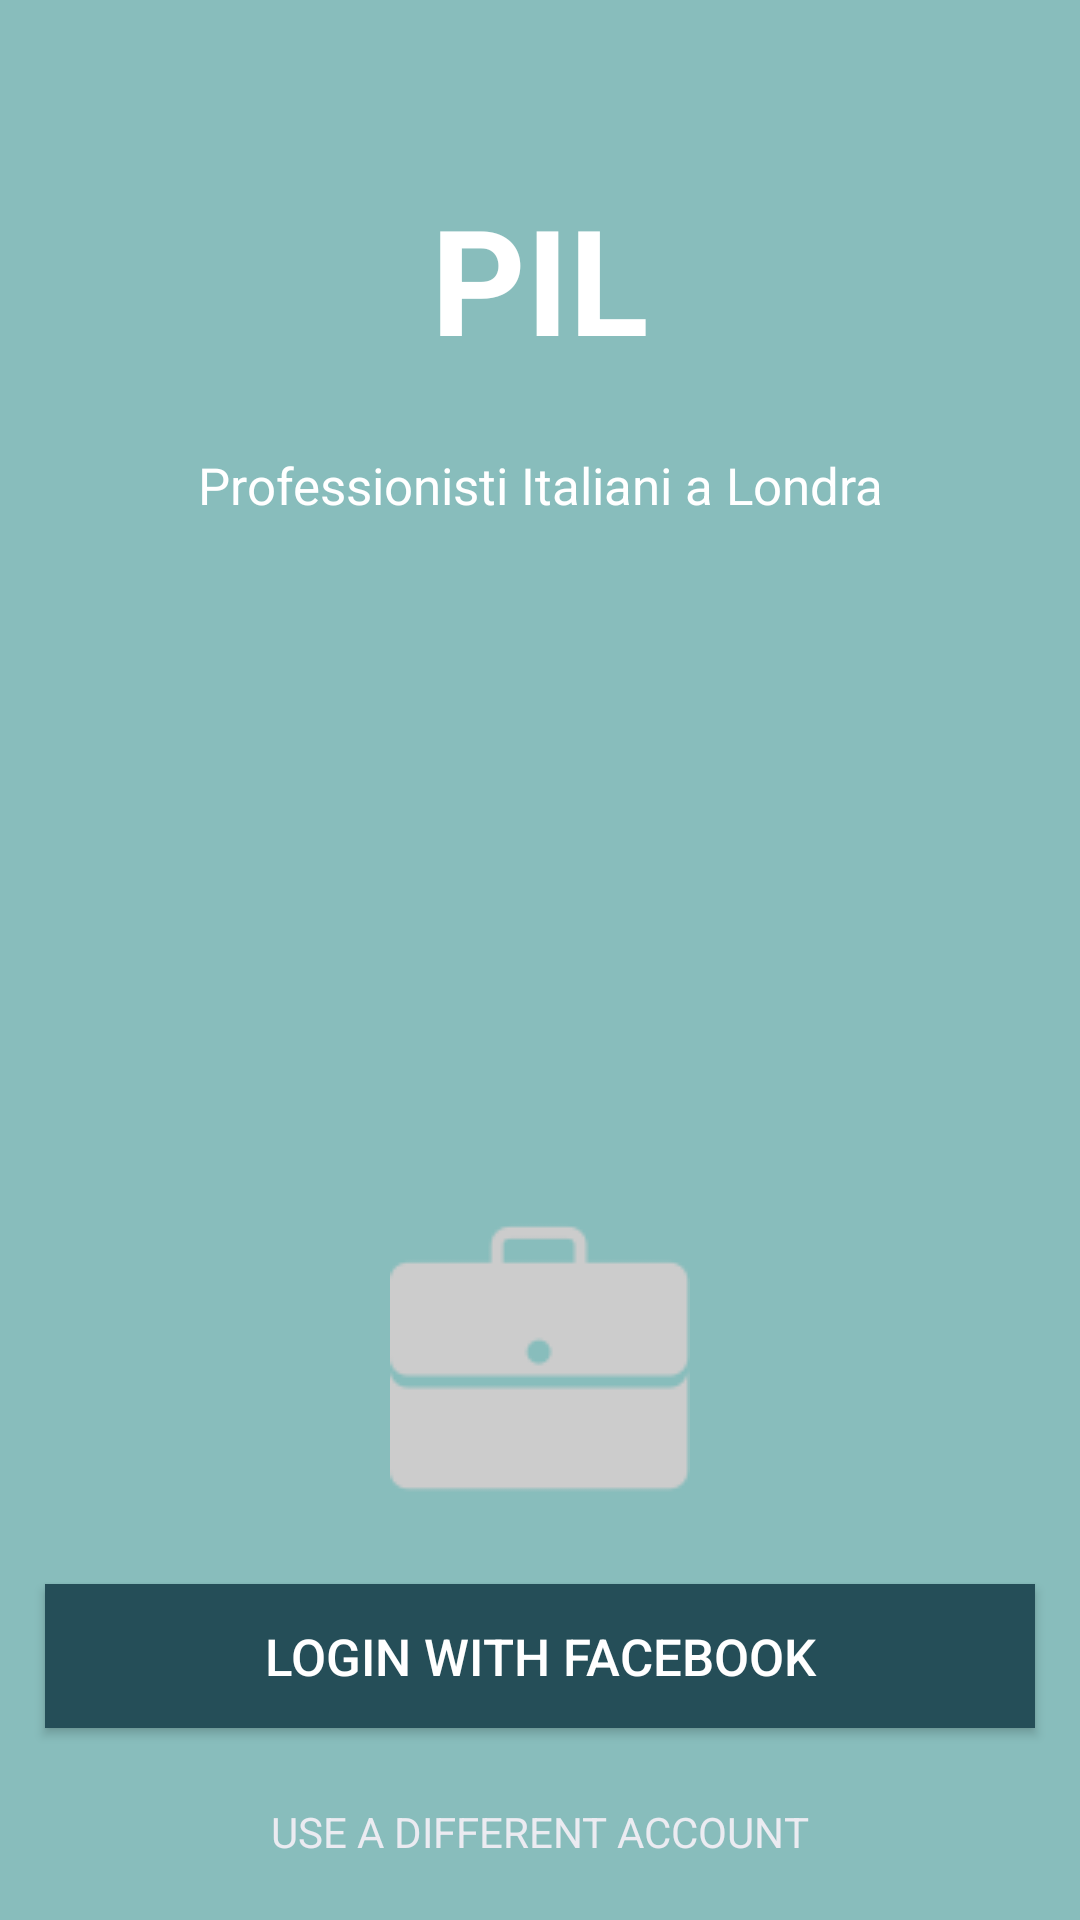

Screen size 1080px×1920px. Icon name, then its center in pixels as (x=x, y=y):
briefcase: (x=539, y=1357)
